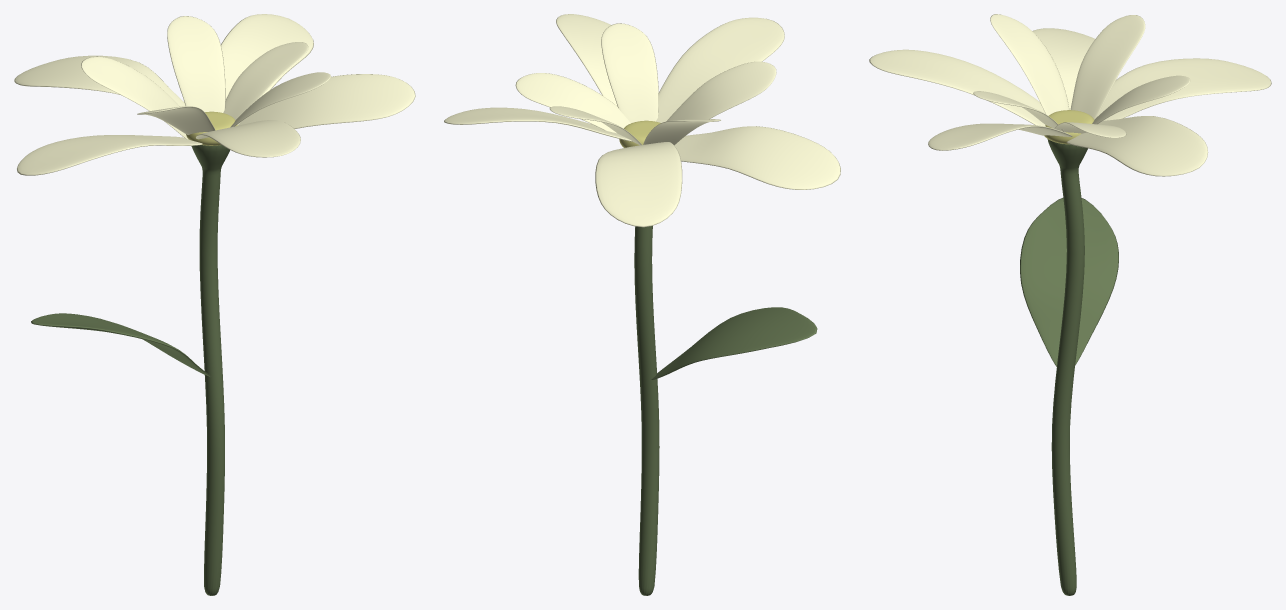
Rendered from flower.fbx.
3 views of the same model, side by side, from view 1: azimuth 30°, elevation 25°; view 2: azimuth 150°, elevation 25°; view 3: azimuth 270°, elevation 25° (orthographic). The views are drawn at different scales.
Visible parts, largest first — view 1: pCylinder3; view 2: pCylinder3; view 3: pCylinder3.
Boxes of the visible parts, <box> form: pCylinder3: <box>14,14,415,595</box>; pCylinder3: <box>444,14,840,595</box>; pCylinder3: <box>869,14,1271,595</box>.
Bounding box in the file's own units: 6.01 × 8.99 × 6.13.
